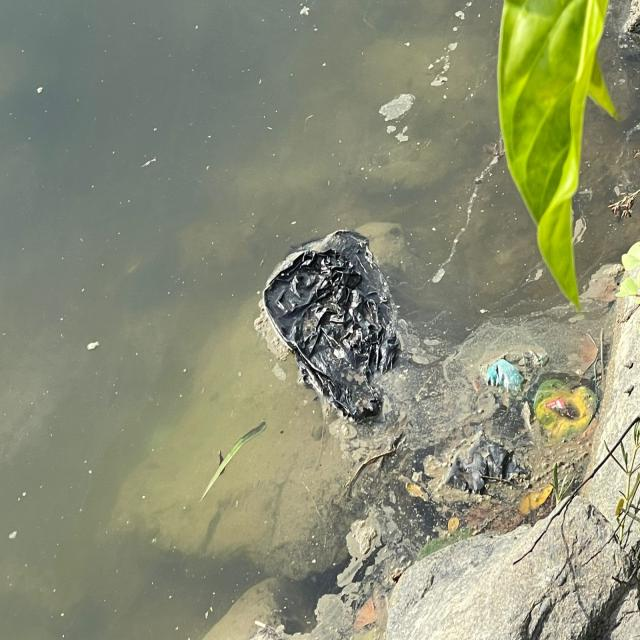Kantong Plastik: (261, 228, 406, 434)
